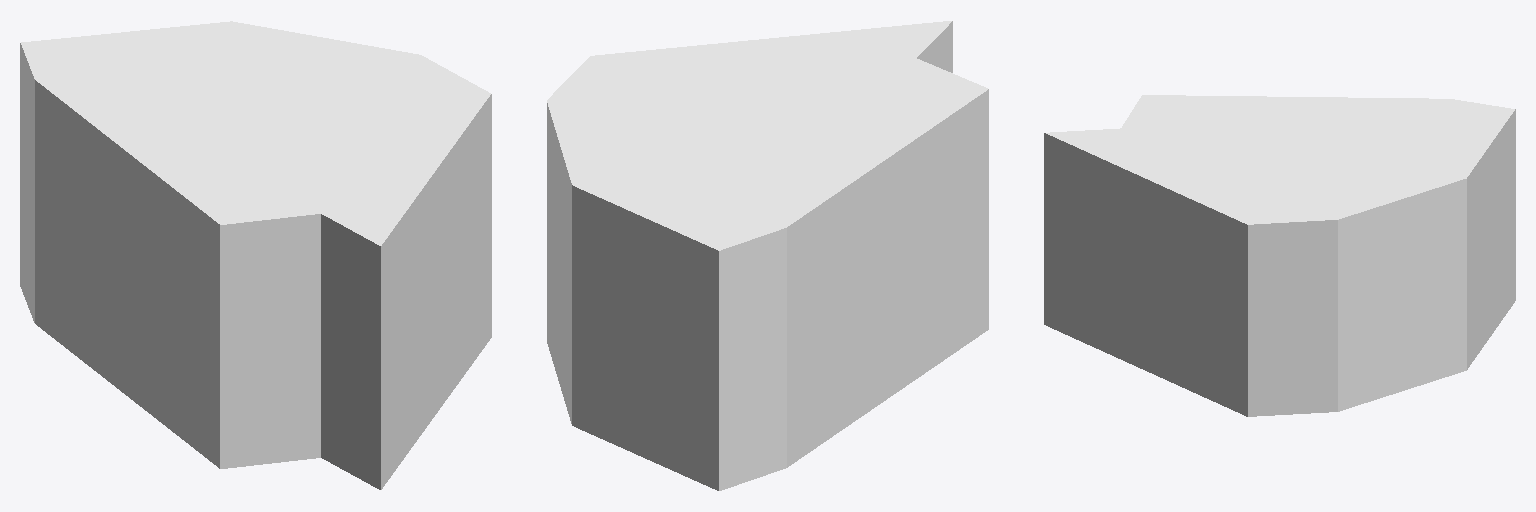
The robot description file, URDF, robot "1":
<?xml version="1.0" ?>
<robot name="1">
  <link concave="yes" name="baseLink">
    <contact>
    	<friction_anchor/>
    	   <lateral_friction value="1.0"/>
    </contact>
    <inertial>
      <origin rpy="0 0 0" xyz="0 0 0"/>
       <!-- mass controls penetration -->
       <mass value=".1"/>
       <inertia ixx="1e-4" ixy="0" ixz="0" iyy="1e-4" iyz="0" izz="1e-4"/>
    </inertial>
    <visual>
      <origin rpy="0 0 0" xyz="0 0 0"/>
      <geometry>
        <mesh filename="package://object_datasets/Tandem2D/meshes/1.obj"/>
      </geometry>
       <material name="white">
        <color rgba="1 1 1 1"/>
      </material>
    </visual>
    <collision>
      <origin rpy="0 0 0" xyz="0 0 0"/>
      <geometry>
        <mesh filename="package://object_datasets/Tandem2D/meshes/1.obj"/>
      </geometry>
    </collision>
  </link>
</robot>

--- What the picture shows (computed from the rendered views, not written in the file) ---
The picture shows the robot from 3 angles, left to right: view 1: azimuth 30°, elevation 25°; view 2: azimuth 150°, elevation 25°; view 3: azimuth 270°, elevation 25°; orthographic projection.
Model 1 with 1 links and 0 joints (none), rooted at baseLink, posed all joints at 0.
Links seen in each view (by area): view 1: baseLink; view 2: baseLink; view 3: baseLink.
Link boxes in pixels (x1,y1,x2,y2): baseLink: (20,21,491,489); baseLink: (547,21,988,490); baseLink: (1044,95,1515,416).
Size in the robot's own frame: 0.1087 by 0.1666 by 0.075 metres.
1 mesh visuals loaded from 1 distinct referenced files (1 OBJ).
